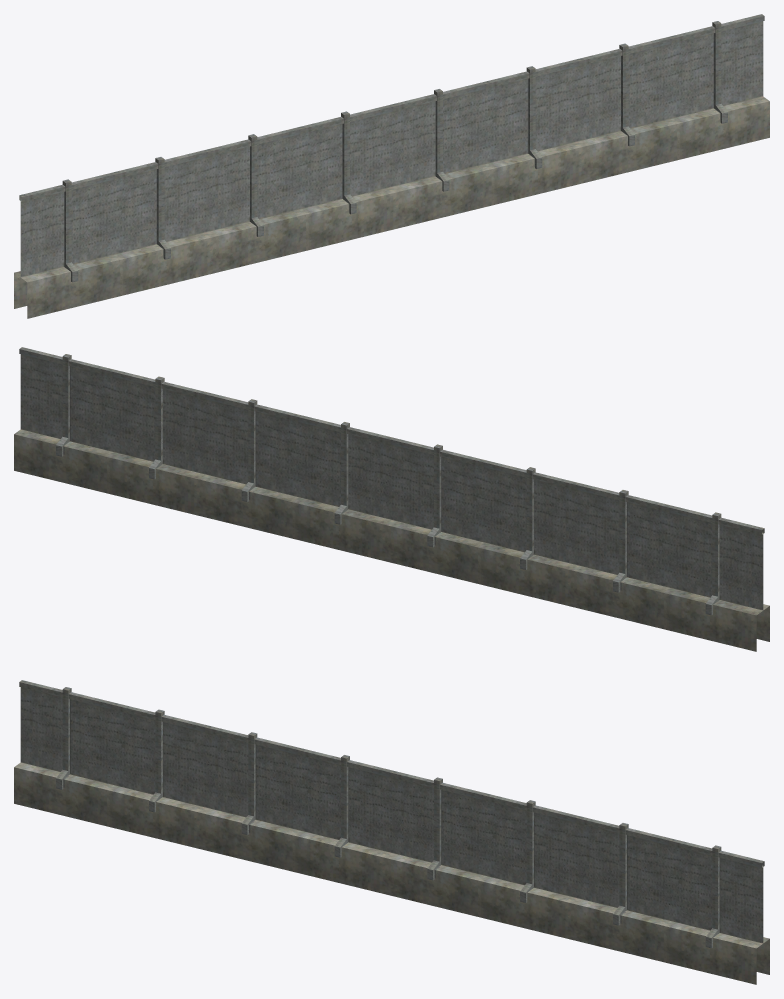
Rendered from thm_corl_imprv_wall_4x32_s03_l1.fbx.
The picture shows the model from 3 angles, top to bottom: view 1: azimuth 30°, elevation 25°; view 2: azimuth 150°, elevation 25°; view 3: azimuth 330°, elevation 25°; orthographic projection.
Parts seen in each view (by area): view 1: mesh_node; view 2: mesh_node; view 3: mesh_node.
Part boxes in pixels (<box>): mesh_node: <box>14,14,769,318</box>; mesh_node: <box>14,347,769,651</box>; mesh_node: <box>14,680,769,984</box>.
Bounding box in the file's own units: 32 × 5 × 1.22.
Materials: 2 (2 with a texture image).
